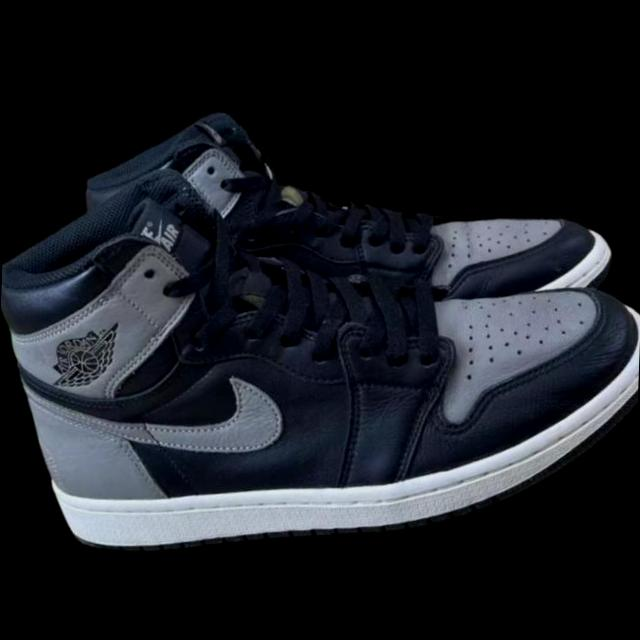nike_original_jordan: (0, 9, 640, 640), (60, 0, 638, 469)
